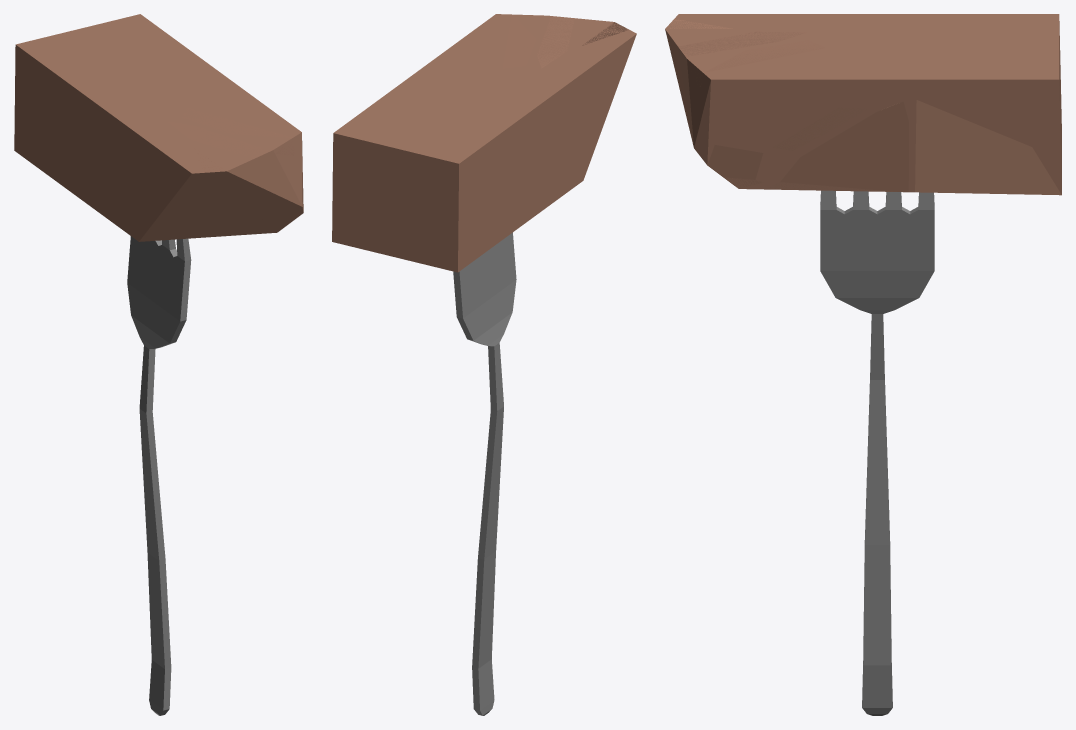
The model's file is hammer_kaputt.glb.
3 views of the same model, side by side, from view 1: azimuth 30°, elevation 25°; view 2: azimuth 150°, elevation 25°; view 3: azimuth 270°, elevation 25° (orthographic). The views are drawn at different scales.
Parts seen in each view (by area): view 1: Cube_cell.031, Gabel, Cube_cell.031_cell.003, Cube_cell.031_cell.008, Gabel.001, Cube_cell.031_cell.009, Cube_cell.031_cell.002; view 2: Cube_cell.031, Cube_cell.031_cell.003, Cube_cell.031_cell.008, Gabel, Gabel.001, Cube_cell.031_cell.009, Cube_cell.031_cell.006, Cube_cell.031_cell.002, Cube_cell.031_cell; view 3: Cube_cell.031, Gabel, Cube_cell.031_cell.006, Cube_cell.031_cell.008, Gabel.001, Cube_cell.031_cell.003, Cube_cell.031_cell.007, Cube_cell.031_cell.002, Cube_cell.031_cell, Cube_cell.031_cell.001, Cube_cell.031_cell.009.
Boxes of the visible parts, x1,y1,x2,y2 form: Cube_cell.031: [14, 14, 303, 241]; Gabel: [127, 236, 191, 560]; Cube_cell.031_cell.003: [15, 18, 194, 152]; Cube_cell.031_cell.008: [95, 82, 251, 241]; Gabel.001: [141, 442, 171, 715]; Cube_cell.031_cell.009: [119, 120, 191, 209]; Cube_cell.031_cell.002: [170, 122, 270, 203]; Cube_cell.031: [332, 14, 636, 272]; Cube_cell.031_cell.003: [350, 87, 541, 230]; Cube_cell.031_cell.008: [453, 71, 606, 220]; Gabel: [453, 232, 516, 453]; Gabel.001: [472, 435, 502, 715]; Cube_cell.031_cell.009: [547, 34, 635, 110]; Cube_cell.031_cell.006: [458, 197, 524, 272]; Cube_cell.031_cell.002: [537, 16, 574, 68]; Cube_cell.031_cell: [503, 14, 535, 68]; Cube_cell.031: [665, 14, 1061, 194]; Gabel: [820, 190, 934, 544]; Cube_cell.031_cell.006: [915, 100, 1061, 195]; Cube_cell.031_cell.008: [770, 14, 908, 192]; Gabel.001: [862, 427, 892, 715]; Cube_cell.031_cell.003: [880, 14, 1059, 73]; Cube_cell.031_cell.007: [707, 145, 763, 188]; Cube_cell.031_cell.002: [670, 31, 804, 98]; Cube_cell.031_cell: [690, 40, 824, 86]; Cube_cell.031_cell.001: [773, 107, 866, 150]; Cube_cell.031_cell.009: [681, 14, 834, 29].
Bounding box in the file's own units: 0.0408 × 0.1944 × 0.1042.
